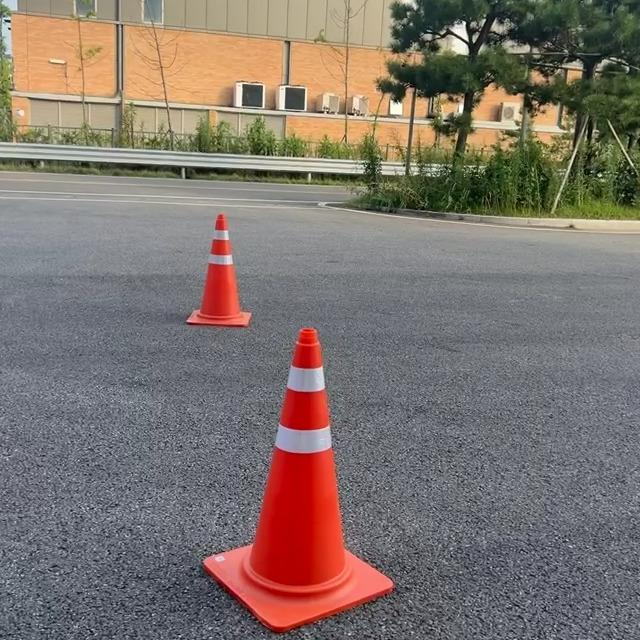fallen_object: (241, 316, 393, 598), (182, 193, 267, 346)
